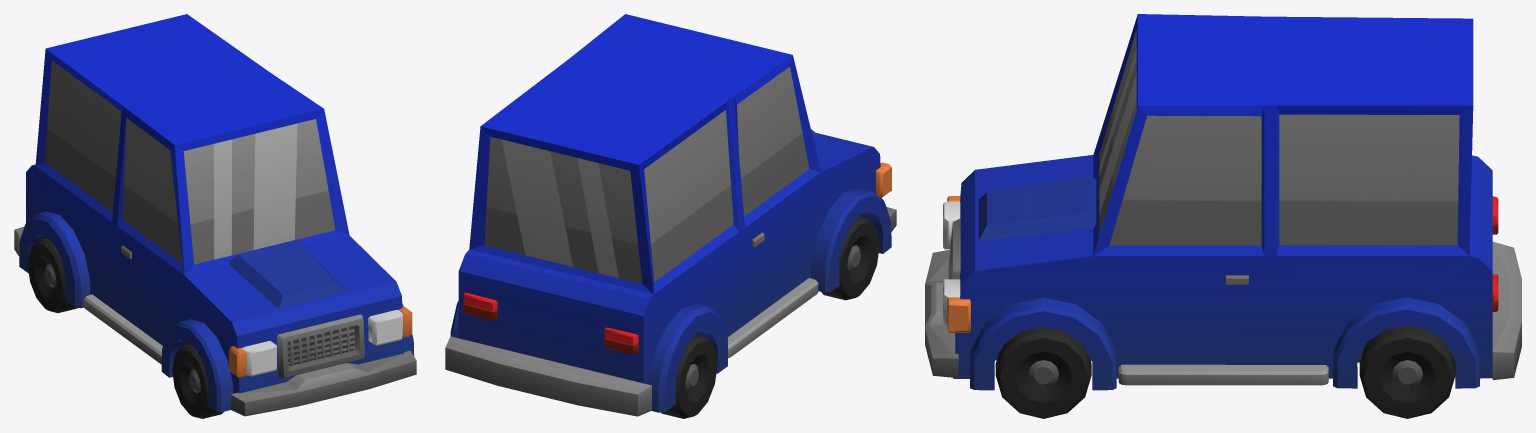
File: Car_5_5.glb
3 renders of one model, left to right at view 1: azimuth 30°, elevation 25°; view 2: azimuth 150°, elevation 25°; view 3: azimuth 270°, elevation 25°, orthographic. The views are drawn at different scales.
Parts seen in each view (by area): view 1: Car_5_5, W_br, W_fr; view 2: Car_5_5, W_br, W_fr; view 3: Car_5_5, W_bl, W_fl.
Part boxes in pixels (x1,y1,x2,y2): Car_5_5: [14, 14, 416, 416]; W_br: [27, 237, 77, 312]; W_fr: [172, 343, 223, 418]; Car_5_5: [445, 14, 896, 416]; W_br: [661, 334, 717, 418]; W_fr: [821, 216, 879, 300]; Car_5_5: [925, 14, 1521, 390]; W_bl: [1359, 325, 1455, 418]; W_fl: [995, 327, 1091, 418].
Size of the model in its own units: 1.13 by 1.3 by 2.33.
6 materials, 6 textured.
